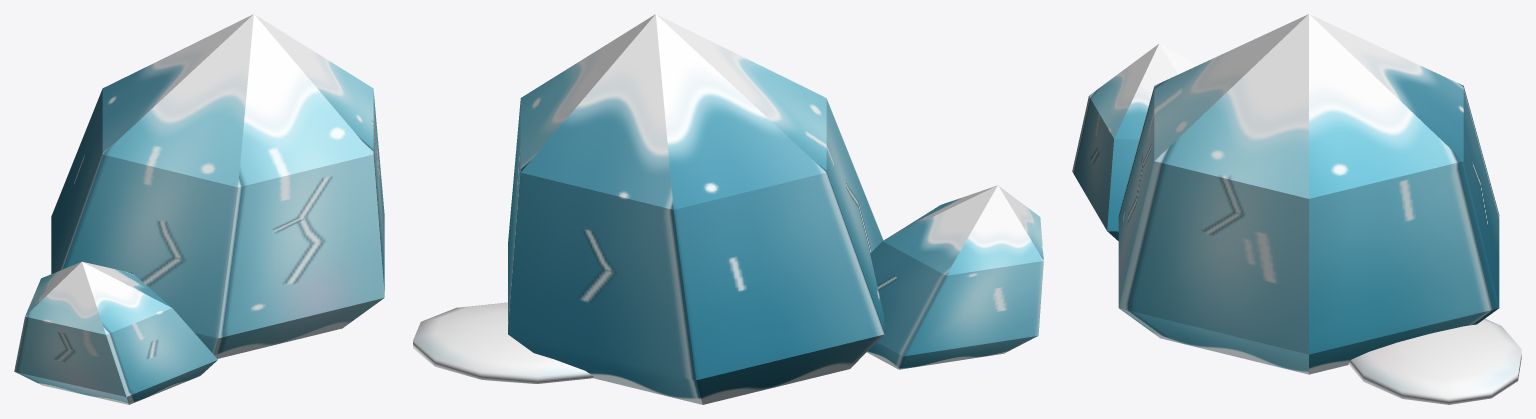
Rendered from icespike_a.glb.
The picture shows the model from 3 angles, left to right: view 1: azimuth 30°, elevation 25°; view 2: azimuth 150°, elevation 25°; view 3: azimuth 270°, elevation 25°; orthographic projection. The views are drawn at different scales.
Visible parts, largest first — view 1: spike; view 2: spike; view 3: spike.
Boxes of the visible parts, x1,y1,x2,y2 form: spike: [14, 14, 384, 404]; spike: [413, 14, 1043, 404]; spike: [1072, 14, 1521, 404].
Bounding box in the file's own units: 1.67 × 1.04 × 1.31.
Materials: 1 (1 with a texture image).
